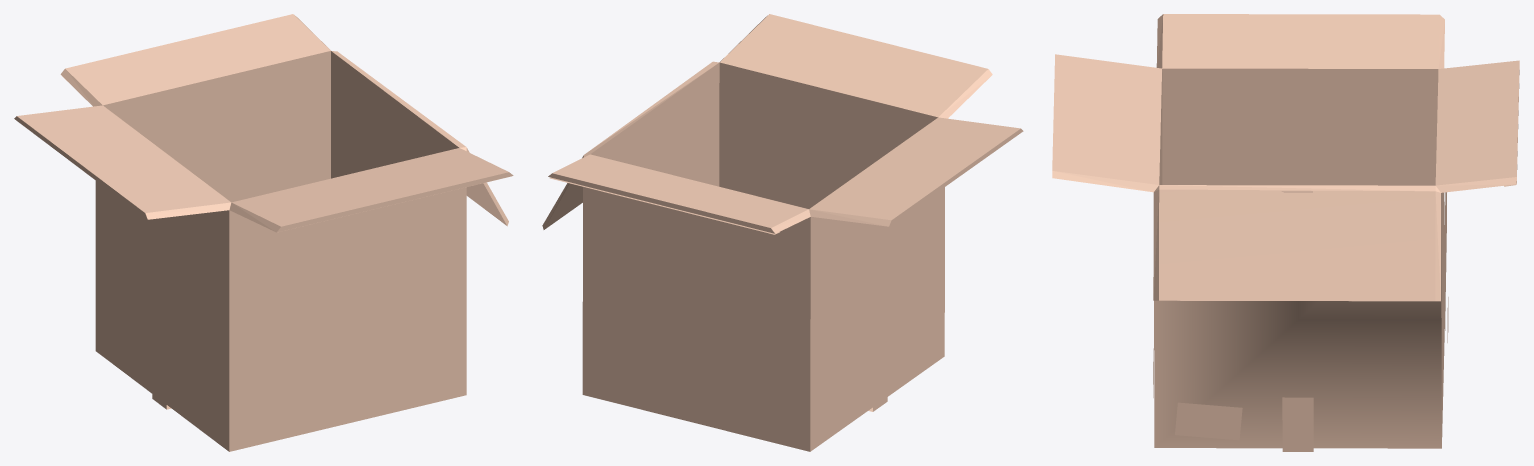
File: poubelle sktech 3.fbx
3 renders of one model, left to right at view 1: azimuth 30°, elevation 25°; view 2: azimuth 150°, elevation 25°; view 3: azimuth 270°, elevation 25°, orthographic. The views are drawn at different scales.
Parts seen in each view (by area): view 1: Deco_Box00; view 2: Deco_Box00; view 3: Deco_Box00.
Boxes of the visible parts, x1=… form: Deco_Box00: x1=14, y1=14, x2=513, y2=451; Deco_Box00: x1=542, y1=14, x2=1023, y2=451; Deco_Box00: x1=1052, y1=14, x2=1519, y2=451.
Size of the model in its own units: 10052 by 6907 by 10590.
